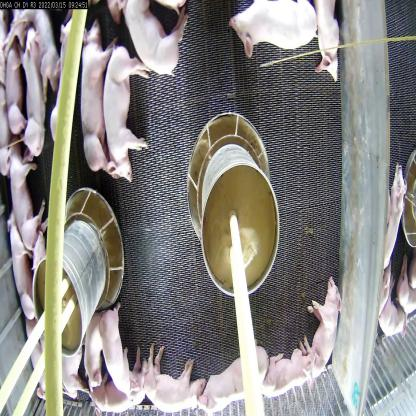Pig: (227, 0, 322, 66), (115, 0, 188, 84), (78, 22, 116, 179), (108, 34, 144, 185), (0, 140, 45, 252), (20, 23, 48, 176), (2, 212, 44, 314), (100, 307, 145, 397), (144, 338, 202, 405), (308, 268, 342, 381), (5, 40, 30, 134), (388, 156, 408, 270)
